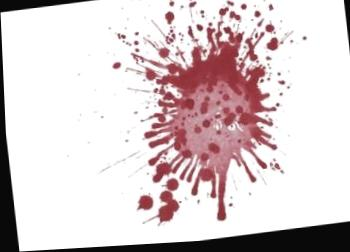Fire: (123, 0, 293, 225), (135, 197, 151, 211), (113, 64, 119, 70)
